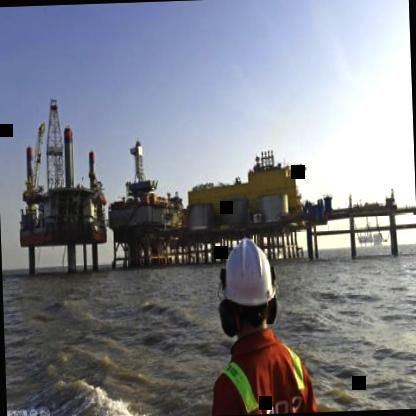helmet: (212, 228, 280, 350)
